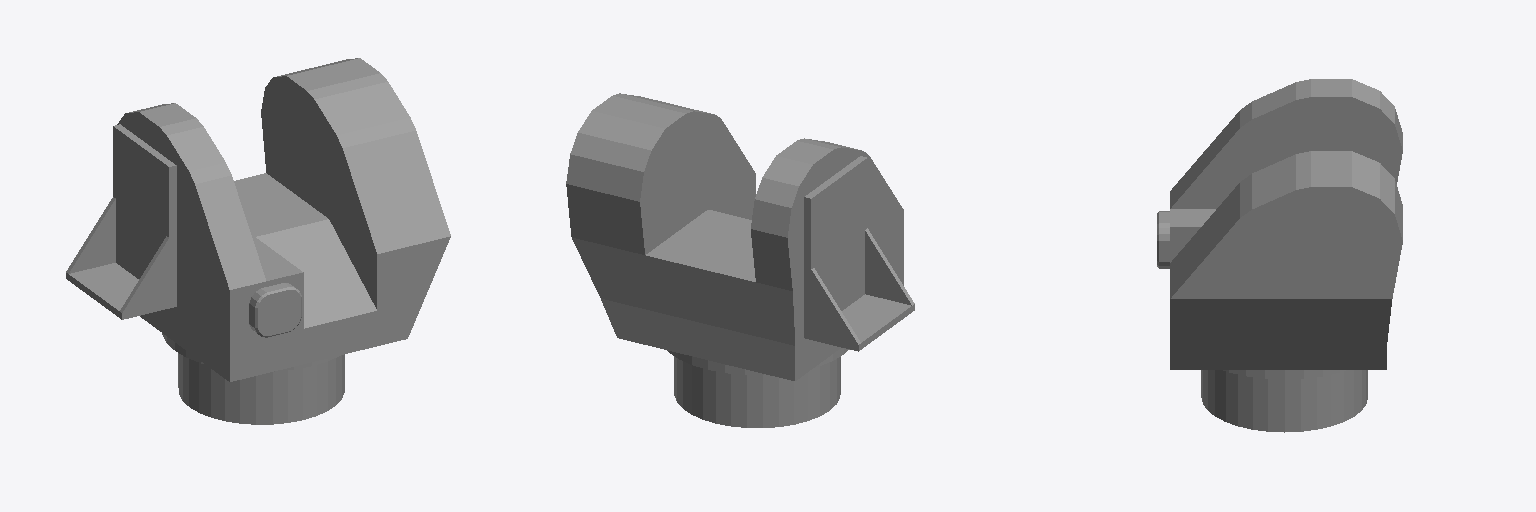
Rendered from machine_Gun_Turret.obj.
3 renders of one model, left to right at view 1: azimuth 30°, elevation 25°; view 2: azimuth 150°, elevation 25°; view 3: azimuth 270°, elevation 25°, orthographic.
Parts seen in each view (by area): view 1: machine_gun_mount_Cylinder.003; view 2: machine_gun_mount_Cylinder.003; view 3: machine_gun_mount_Cylinder.003.
Boxes of the visible parts, x1=… form: machine_gun_mount_Cylinder.003: x1=66, y1=58, x2=450, y2=424; machine_gun_mount_Cylinder.003: x1=566, y1=93, x2=914, y2=427; machine_gun_mount_Cylinder.003: x1=1157, y1=79, x2=1402, y2=432.
Size of the model in its own units: 1.58 by 1.47 by 1.2.